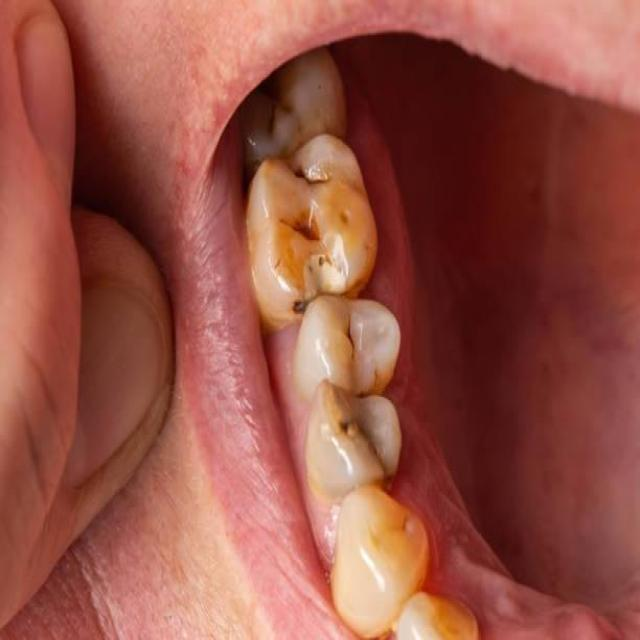caries: (273, 154, 352, 275), (247, 70, 308, 144), (336, 399, 387, 473), (331, 305, 363, 366)
